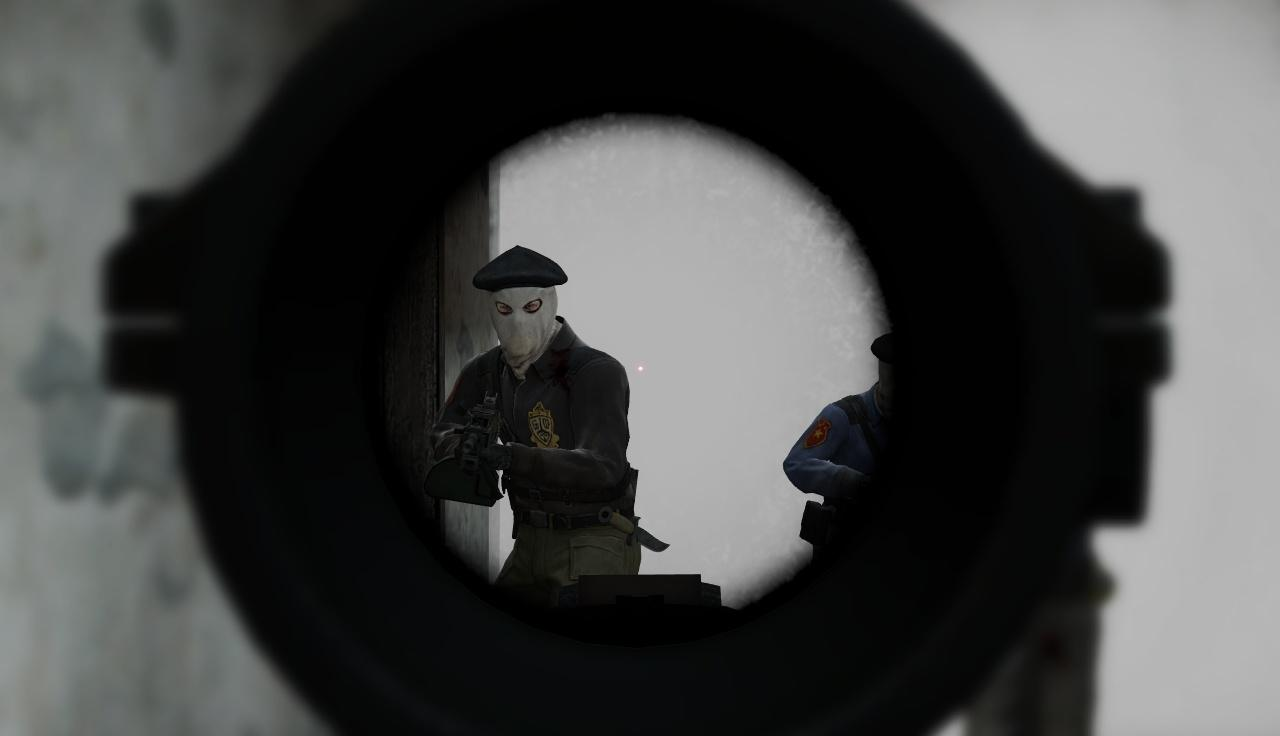tt: (453, 246, 629, 578), (782, 338, 891, 537)
tthead: (487, 246, 557, 355)
